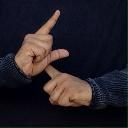hand: (14, 9, 69, 77), (43, 63, 93, 108)
